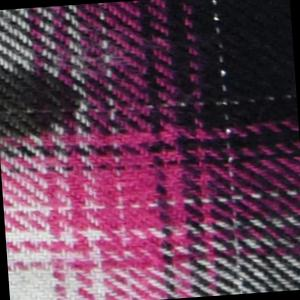Stain: (1, 56, 91, 145)
